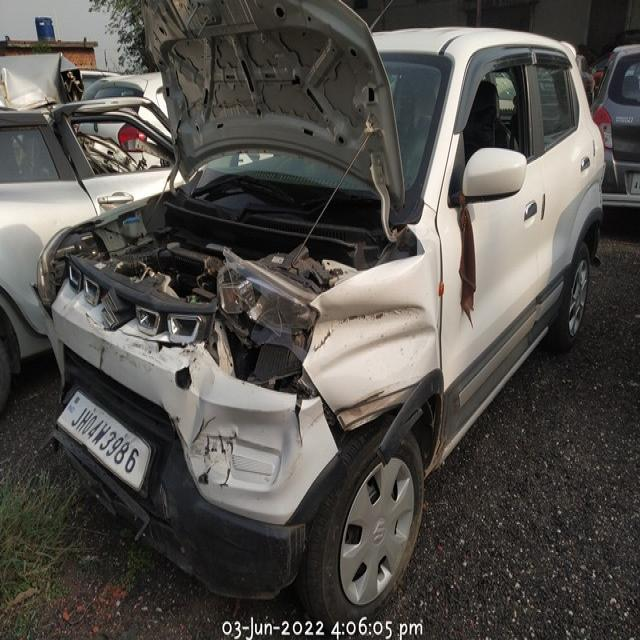damage: (294, 239, 433, 392), (57, 371, 179, 504), (196, 393, 330, 502), (212, 239, 317, 346), (72, 303, 188, 387), (335, 392, 423, 461), (168, 361, 199, 397)
